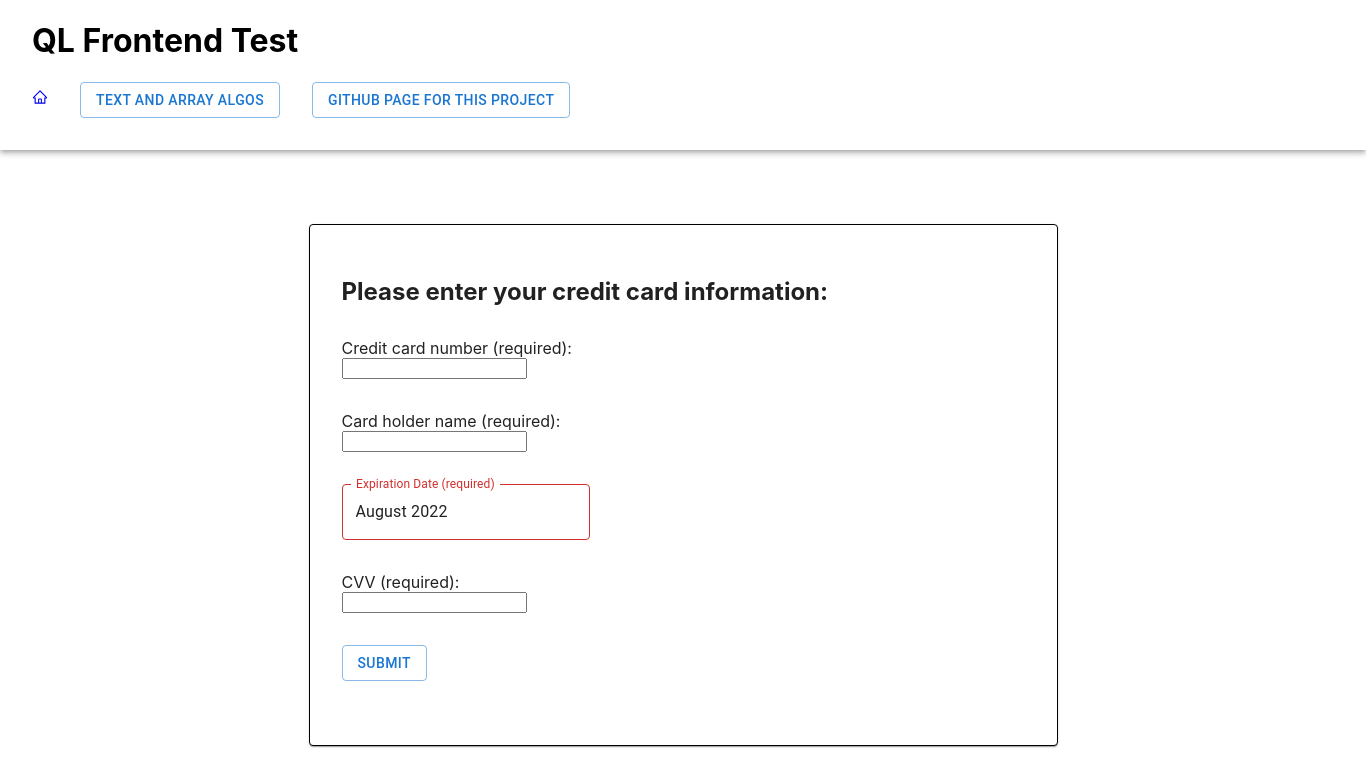
credit card component renders with appropriate content and is fillable with input values dependent on the form validation constraints › entering text in credit card number input field should not work, but inputting numbers should
In the number field with class "cCNumber": (435, 369) top-left (342, 358), bottom-right (527, 379), type "123string"
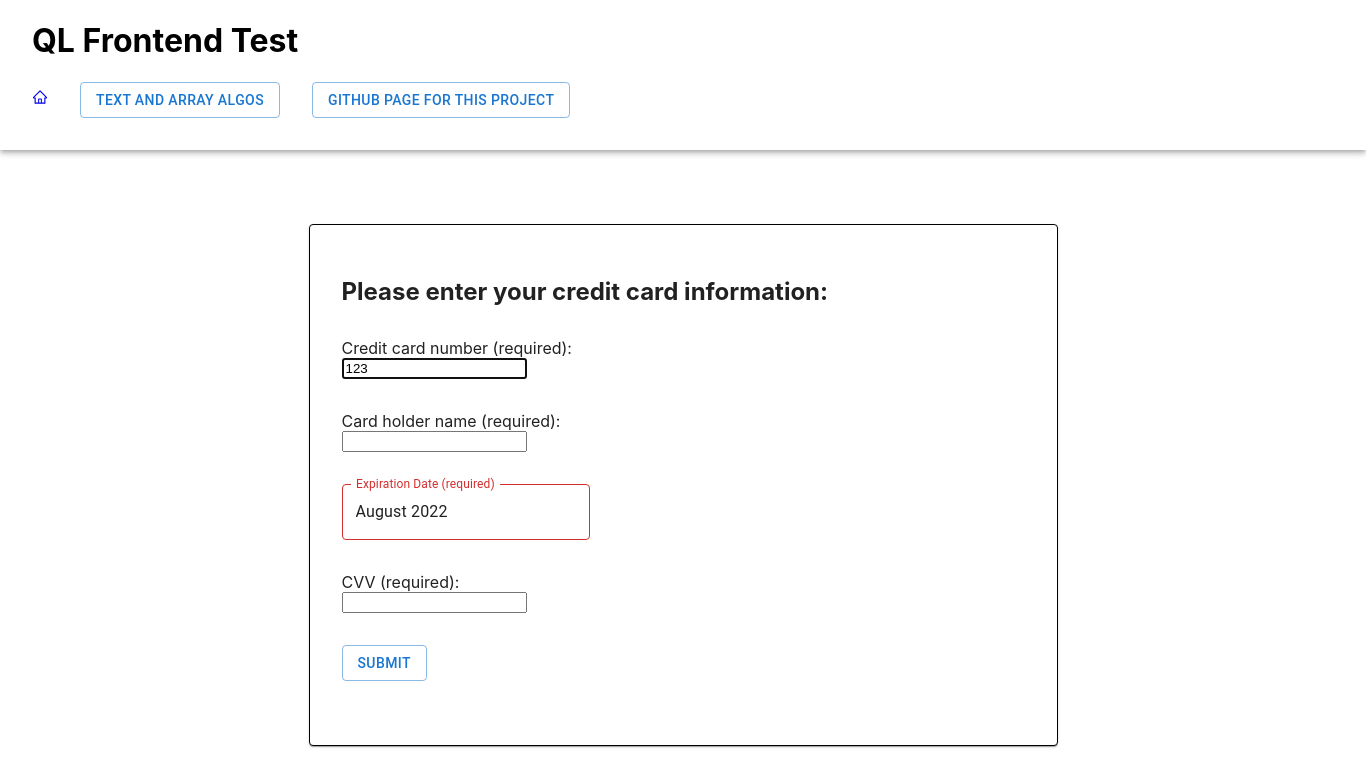
Result: the number field with class "cCNumber" holds "123" at top-left (342, 358), bottom-right (527, 379)
